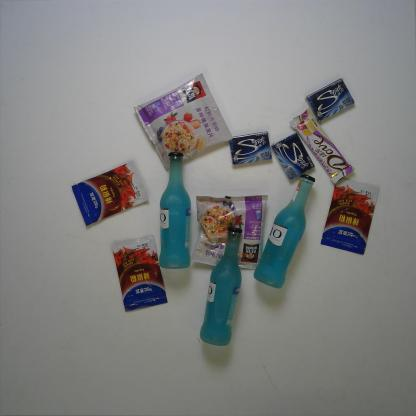Alcohol: (256, 171, 321, 296), (197, 218, 250, 359), (150, 148, 204, 273)
Chocolate: (288, 106, 366, 192)
Gum: (300, 76, 360, 126), (272, 132, 318, 185), (226, 128, 277, 171)
Instant Drink: (130, 74, 234, 174), (190, 192, 268, 279)
Seasoner: (71, 158, 155, 226), (106, 232, 171, 318), (319, 171, 381, 256)
